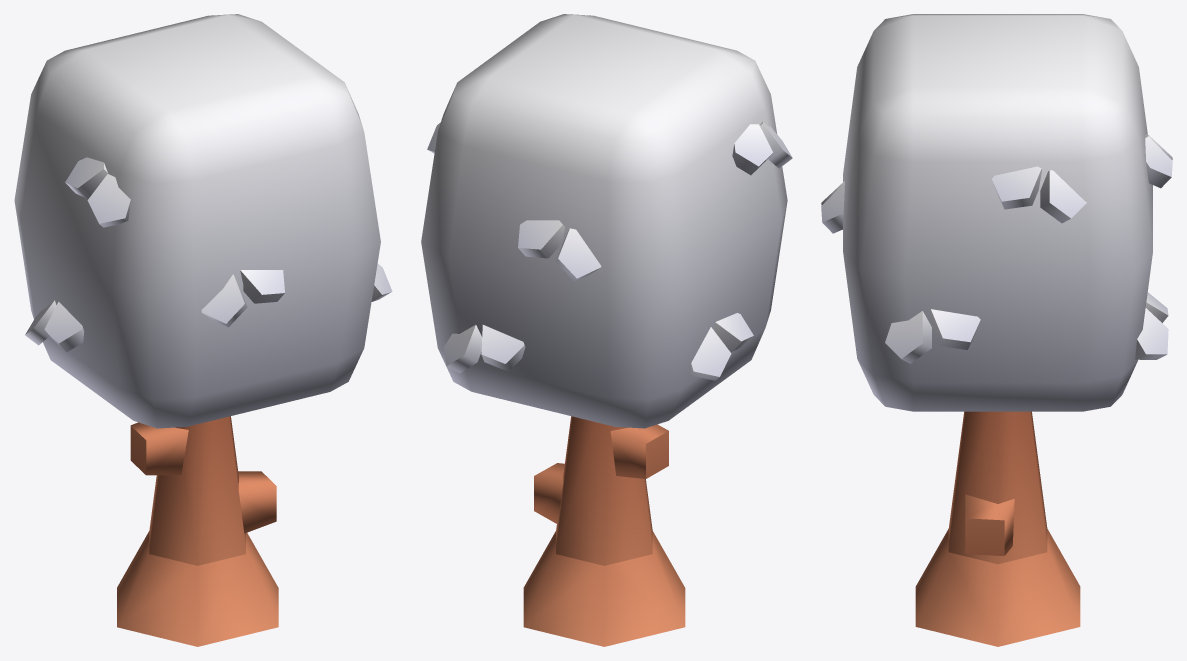
Rendered from tree-snow.glb.
3 views of the same model, side by side, from view 1: azimuth 30°, elevation 25°; view 2: azimuth 150°, elevation 25°; view 3: azimuth 270°, elevation 25° (orthographic).
Visible parts, largest first — view 1: tree-snow; view 2: tree-snow; view 3: tree-snow.
Boxes of the visible parts, bbox=[...] form: tree-snow: bbox=[14, 14, 392, 646]; tree-snow: bbox=[421, 14, 792, 646]; tree-snow: bbox=[821, 14, 1172, 646].
Bounding box in the file's own units: 1.09 × 1.93 × 1.11.
1 material, 1 textured.
